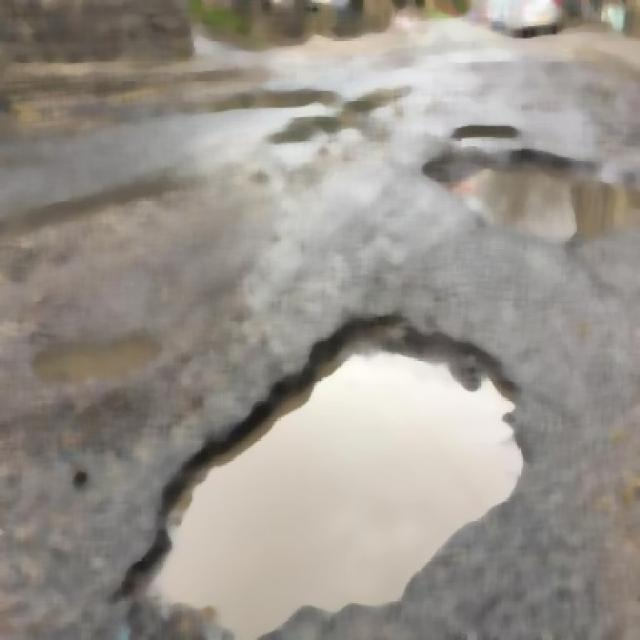Pothole: (116, 256, 524, 639), (424, 128, 639, 277)
